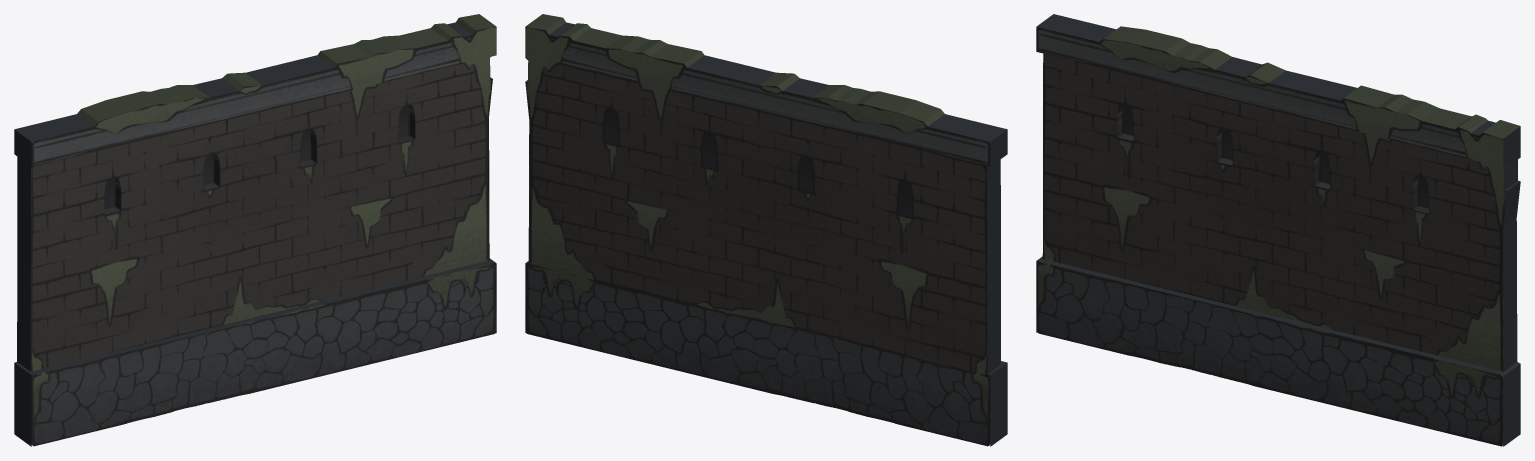
File: wall.fbx
3 views of the same model, side by side, from view 1: azimuth 30°, elevation 25°; view 2: azimuth 150°, elevation 25°; view 3: azimuth 330°, elevation 25° (orthographic).
Visible parts, largest first — view 1: Plane; view 2: Plane; view 3: Plane.
Boxes of the visible parts, x1=… form: Plane: x1=14, y1=14, x2=496, y2=446; Plane: x1=525, y1=14, x2=1007, y2=446; Plane: x1=1036, y1=14, x2=1520, y2=446.
Size of the model in its own units: 197 by 126 by 12.75.
